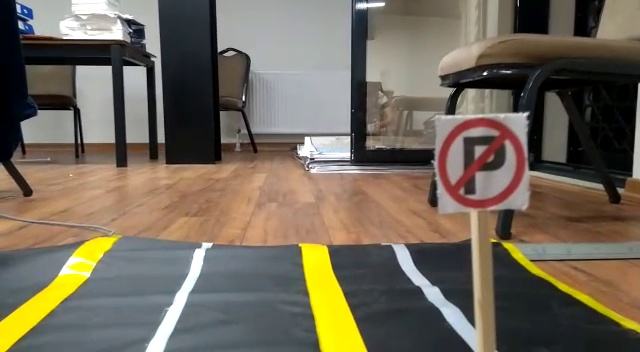park_yapilmaz: (428, 115, 533, 217)
